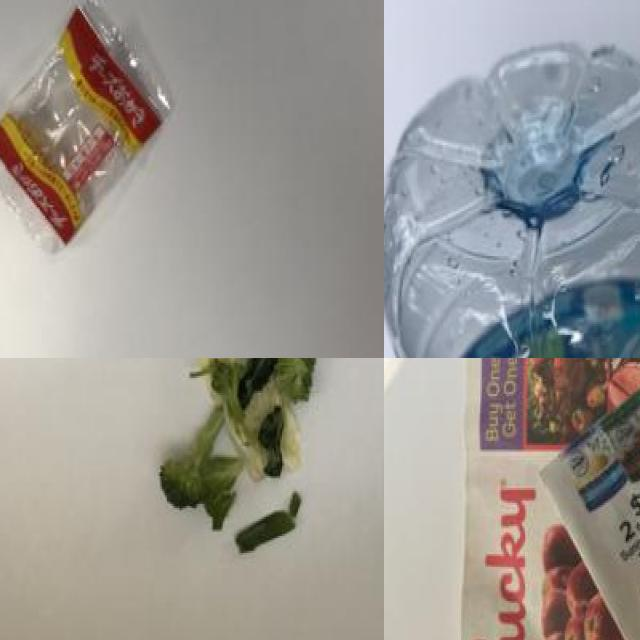compost: (124, 358, 350, 589)
paper: (448, 358, 640, 640)
plastic: (384, 30, 640, 358)
trash: (0, 0, 191, 262)
